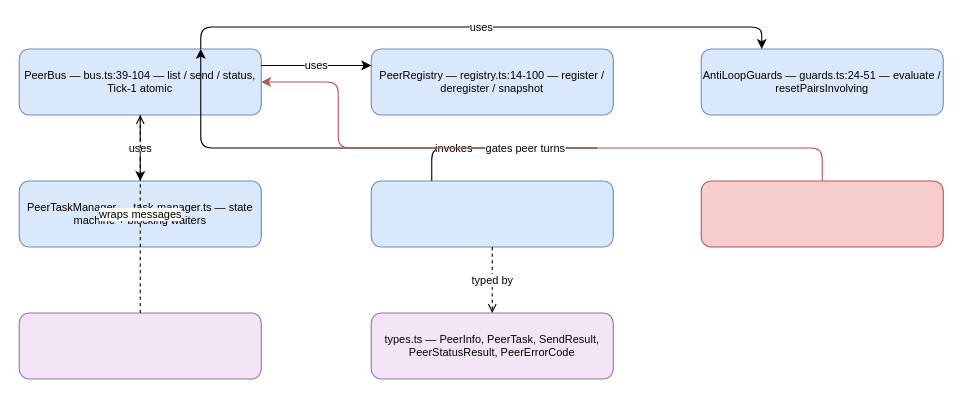
Image size: 963x398. Some labels were removed from this diagram. Each missing label, with the box of its shape:
Approval gate — approval.ts:14-69 — Option A fail-closed: (700, 180, 943, 247)
envelope.ts — wrapPeerPrompt / wrapPeerReply / forged-marker check: (18, 312, 261, 379)
Session tools — tools.ts:37-118 — buildPeerList / Send / StatusTool: (370, 180, 613, 247)
